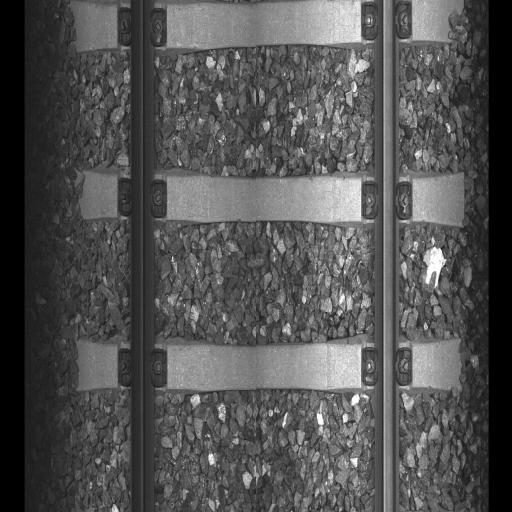clips: (119, 339, 168, 392), (360, 343, 412, 391), (360, 177, 413, 224), (118, 175, 166, 222), (362, 6, 411, 42), (118, 8, 165, 42)
sleepers: (76, 338, 462, 393), (80, 172, 465, 225), (74, 5, 465, 45)
